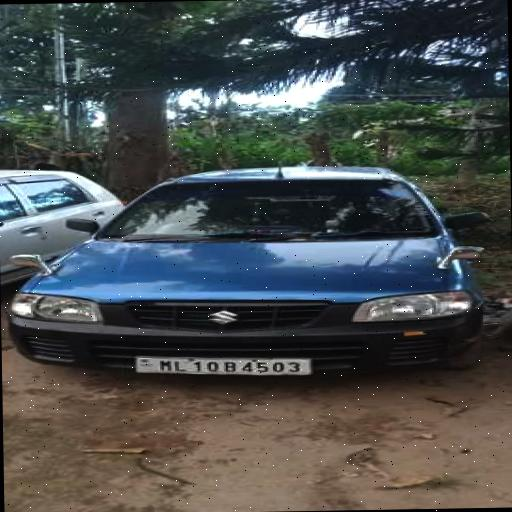license_plate`: (130, 352, 307, 378)
